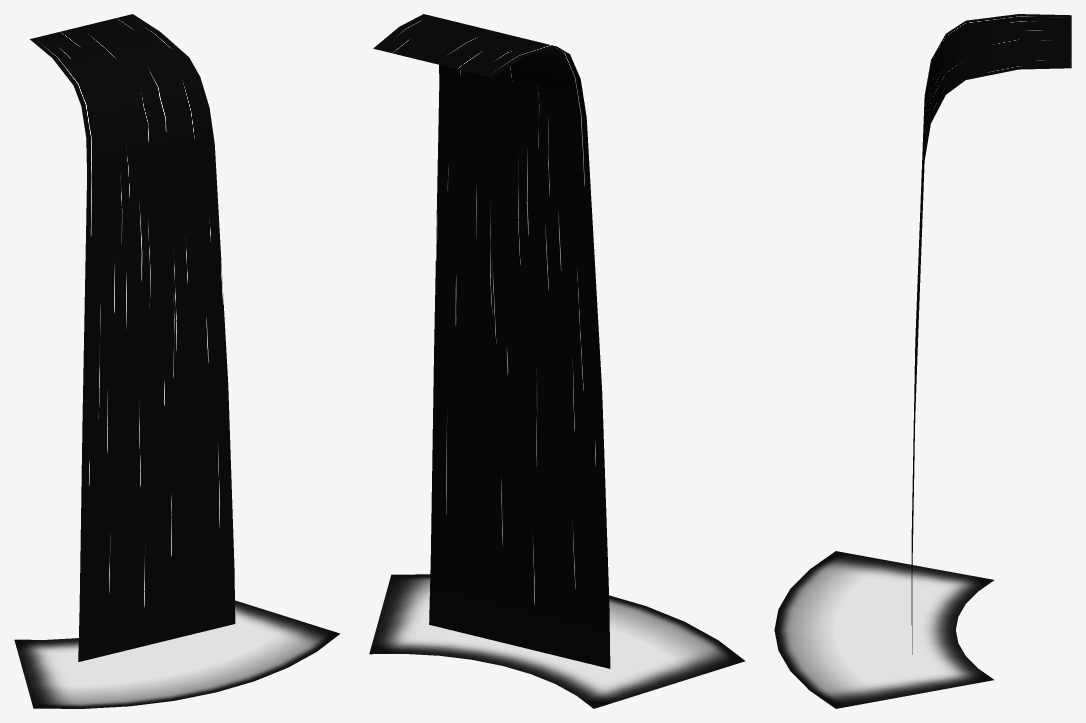
Rendered from P_Waterfall5.obj.
3 views of the same model, side by side, from view 1: azimuth 30°, elevation 25°; view 2: azimuth 150°, elevation 25°; view 3: azimuth 270°, elevation 25° (orthographic). The views are drawn at different scales.
Size of the model in its own units: 10.3 by 18.07 by 8.19.
